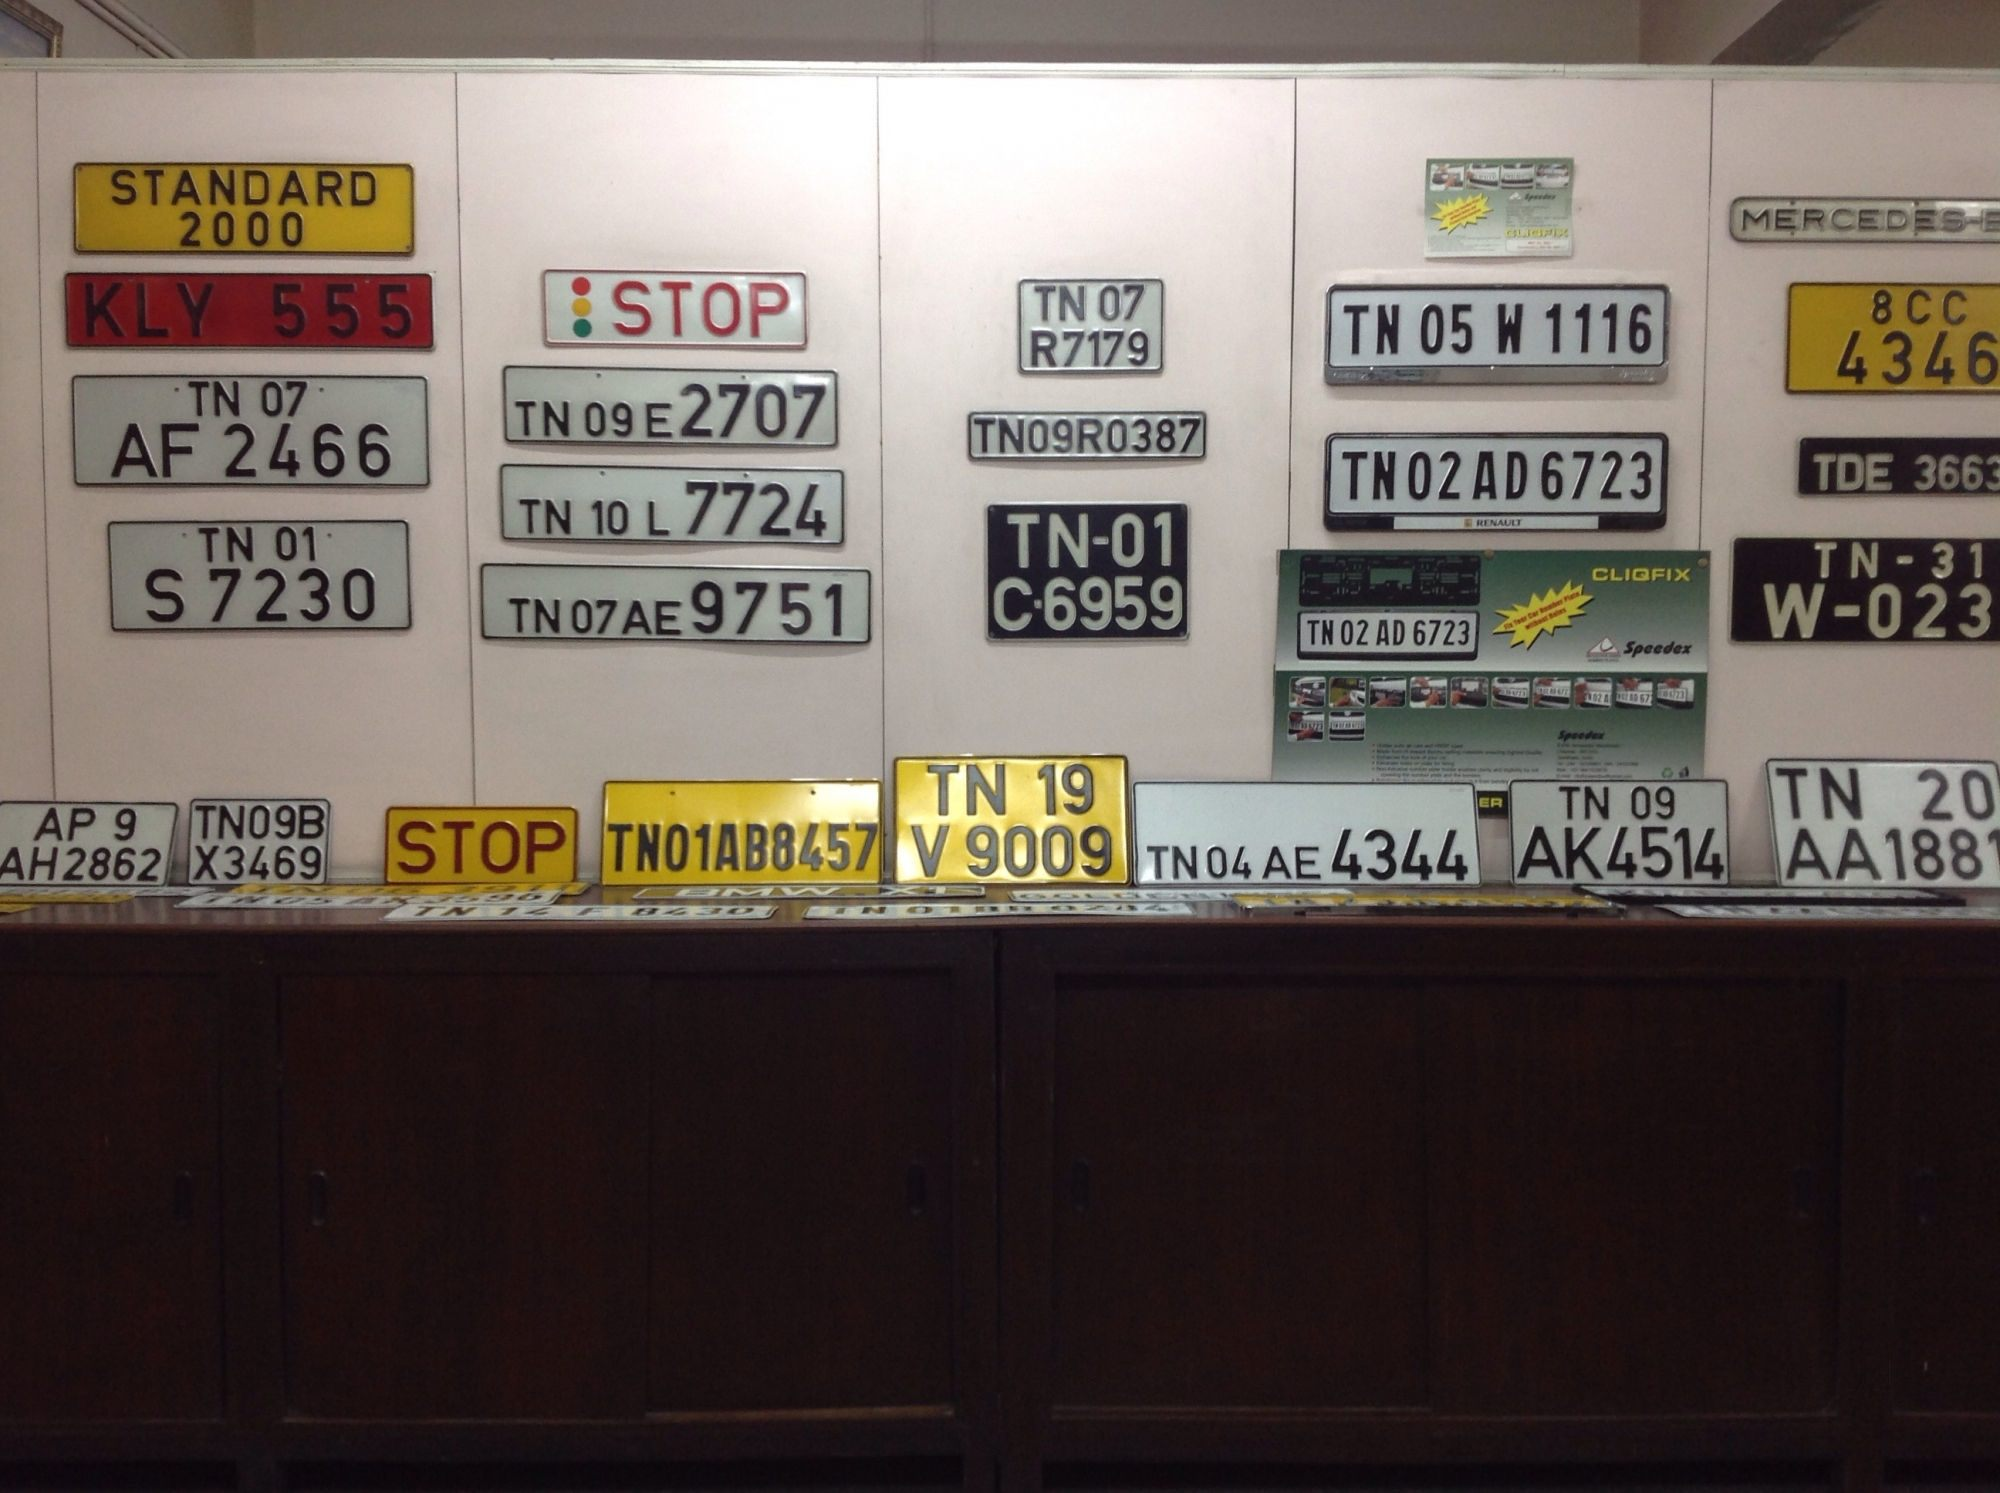number_plate: (71, 369, 435, 494), (1321, 424, 1671, 535), (105, 515, 413, 638), (478, 559, 874, 652), (1322, 279, 1672, 382), (68, 157, 418, 255), (497, 457, 846, 549), (893, 754, 1133, 888), (500, 360, 844, 452), (608, 780, 886, 890), (986, 501, 1197, 646), (1510, 773, 1732, 888), (1018, 273, 1169, 380), (186, 793, 333, 890), (966, 404, 1210, 463)
